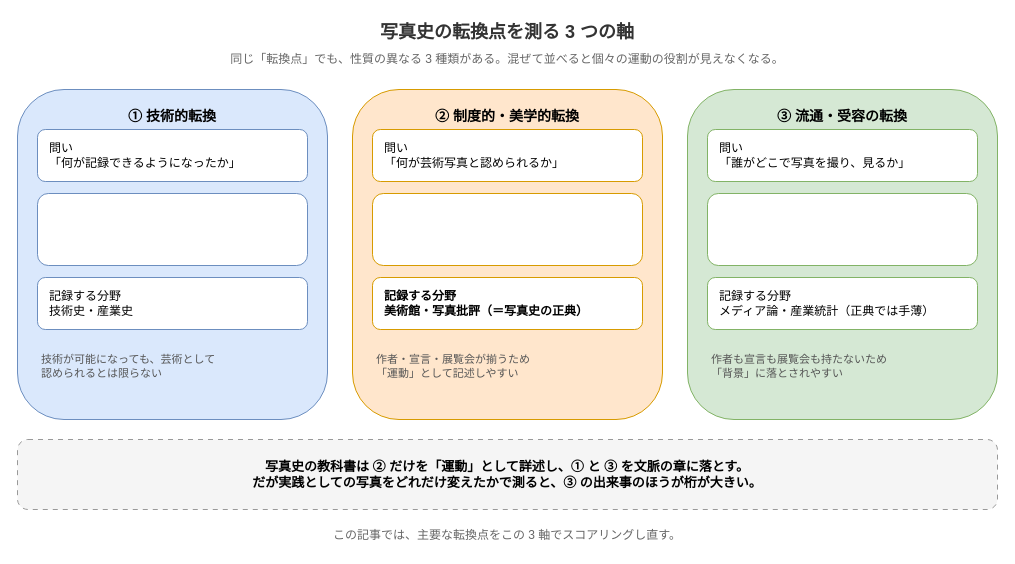
Some shapes in this 1015 by 564 pixel diagram are drawn without their labels. Each missing label, with the centre of its shape:
例 コダック No.1／グラフ誌／ Web と JPEG／Instagram: the point at 842,229
例 ピクトリアリズム／f/64／ ニュー・トポグラフィックス／ニューカラー: the point at 507,229
例 湿板コロジオン／35mm／カラー乳剤／ デジタルセンサー／計算写真: the point at 172,229
